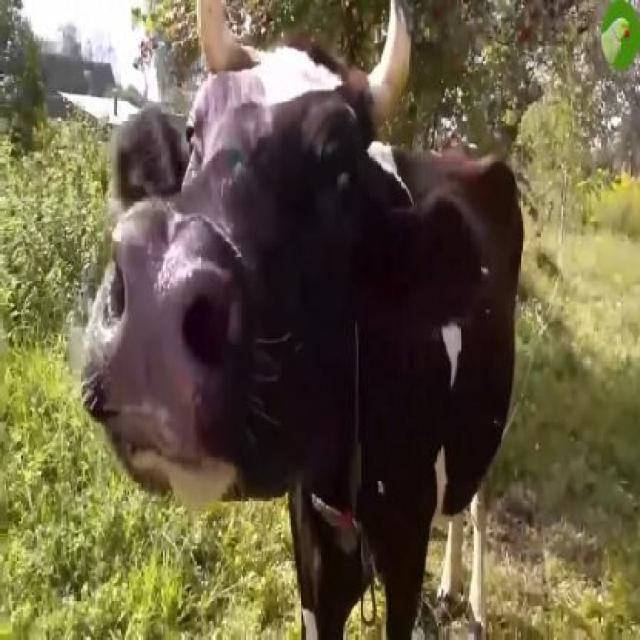Cow: (78, 0, 526, 638)
